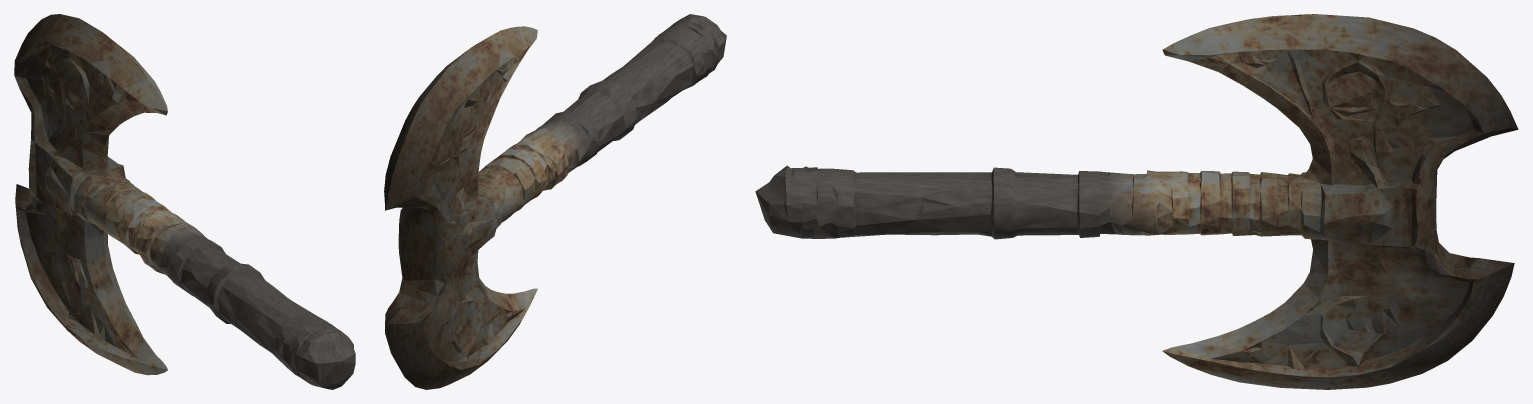
The model's file is MedievalAxe.fbx.
3 renders of one model, left to right at view 1: azimuth 30°, elevation 25°; view 2: azimuth 150°, elevation 25°; view 3: azimuth 270°, elevation 25°, orthographic. The views are drawn at different scales.
Visible parts, largest first — view 1: MedievalAxe; view 2: MedievalAxe; view 3: MedievalAxe.
Boxes of the visible parts, x1,y1,x2,y2 form: MedievalAxe: (14,14,355,389); MedievalAxe: (384,14,726,389); MedievalAxe: (755,14,1518,389).
Size of the model in its own units: 10.93 by 57.07 by 105.
Materials: 1 (1 with a texture image).
